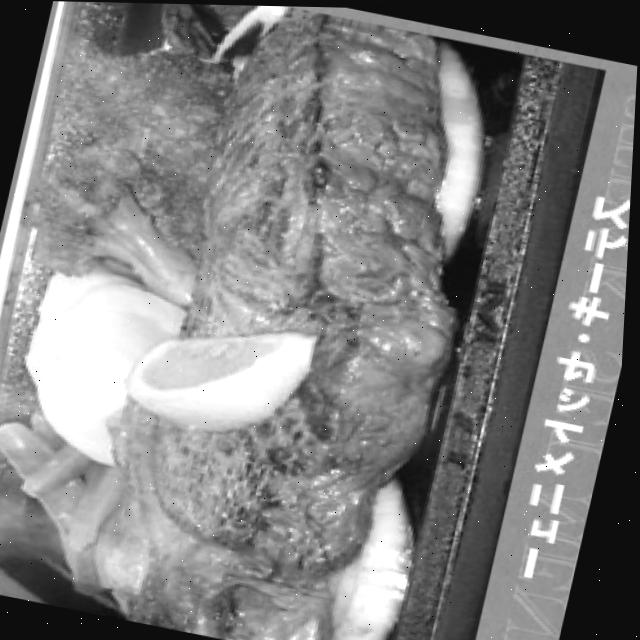牛肉菜式: (68, 2, 522, 640)
